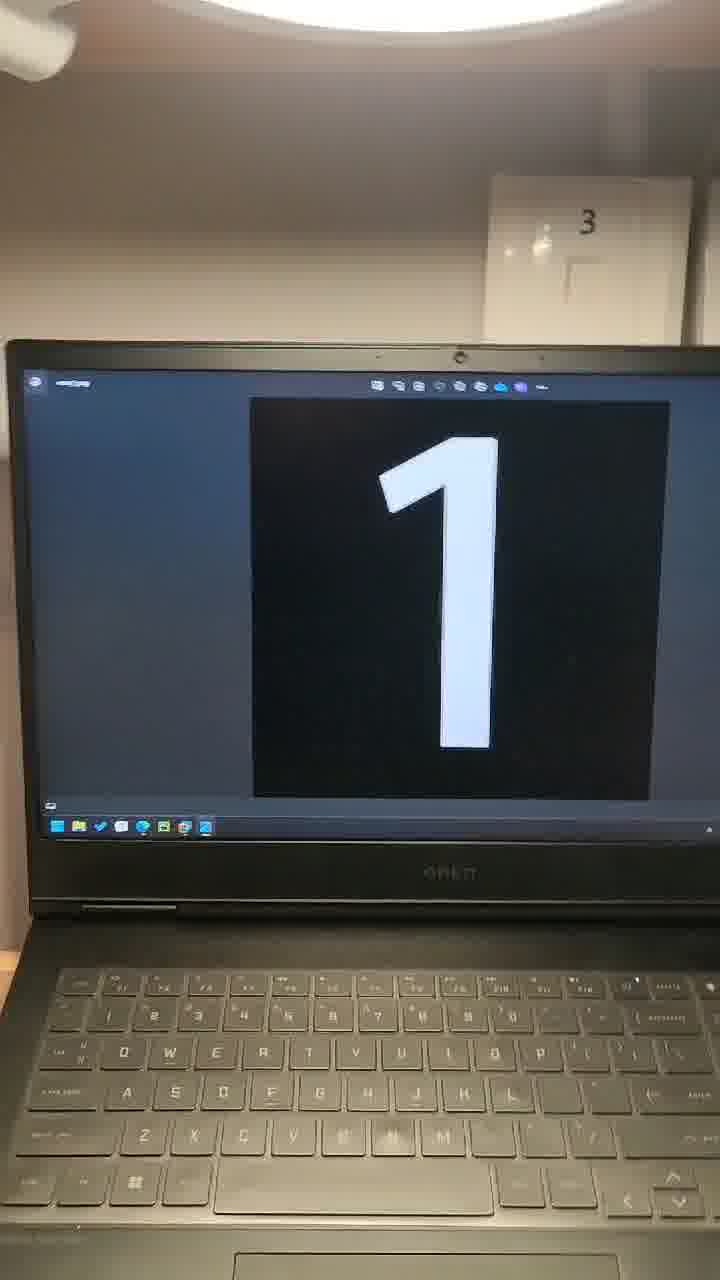one: (325, 404, 650, 844)
